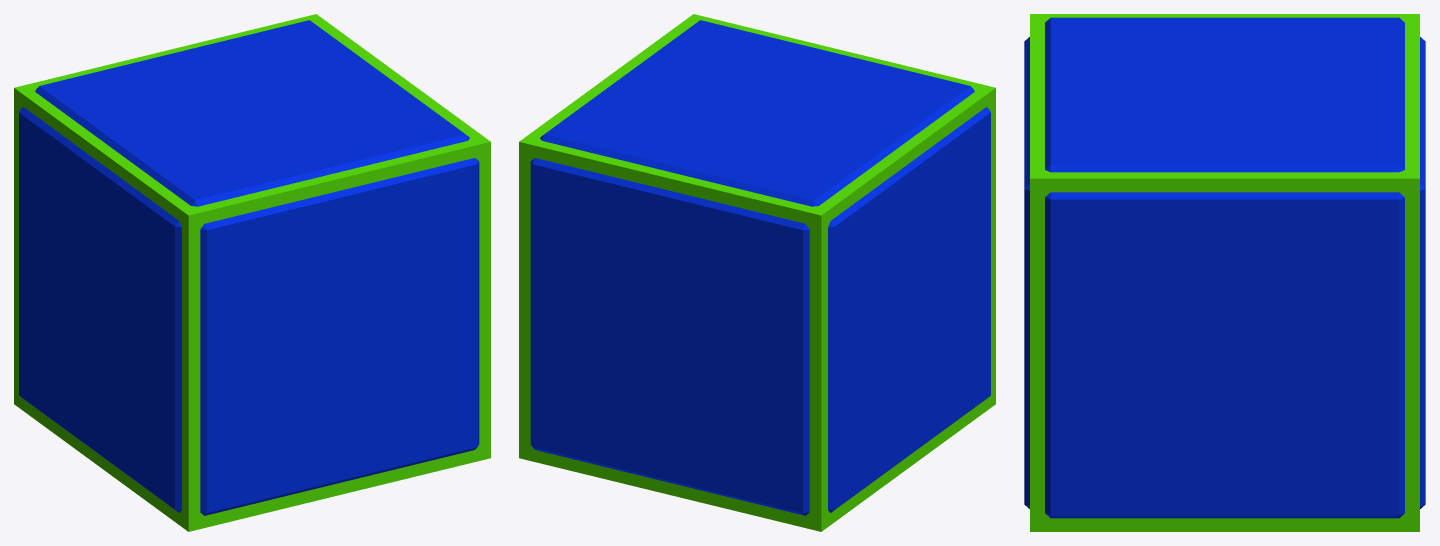
File: sample.glb
3 renders of one model, left to right at view 1: azimuth 30°, elevation 25°; view 2: azimuth 150°, elevation 25°; view 3: azimuth 270°, elevation 25°, orthographic. The views are drawn at different scales.
Visible parts, largest first — view 1: Cube; view 2: Cube; view 3: Cube.
Part boxes in pixels (x1,y1,x2,y2): Cube: [14, 14, 490, 531]; Cube: [519, 14, 995, 531]; Cube: [1024, 14, 1425, 531].
Size of the model in its own units: 2 by 2 by 2.
